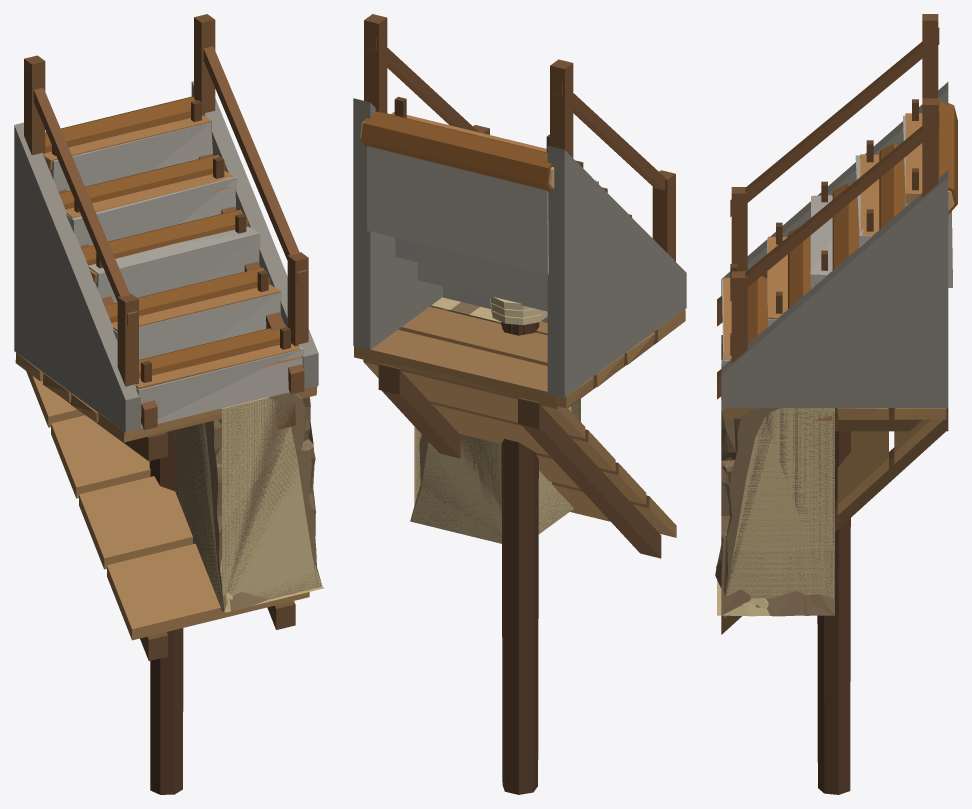
File: tileset.glb
3 renders of one model, left to right at view 1: azimuth 30°, elevation 25°; view 2: azimuth 150°, elevation 25°; view 3: azimuth 270°, elevation 25°, orthographic. The views are drawn at different scales.
Parts seen in each view (by area): view 1: stairs_stone_steps, stairs_stone_cheeks, dock_ramp_planks, stairs_wood_frame, tile_bank_edge_0, stairs_log_logs, tile_cliff_edge_0, stairs_wood_treads, tile_cliff_outer, dock_post_pile, dock_deck_planks, tile_bank_outer (+5 smaller); view 2: stairs_stone_cheeks, stairs_stone_steps, dock_post_pile, dock_deck_planks, dock_ramp_planks, stairs_wood_frame, dock_ramp_beams, tile_bank_edge_0, stairs_log_logs, tile_cliff_edge_0, dock_deck_beams, tile_bank_outer (+3 smaller); view 3: stairs_stone_cheeks, tile_bank_inner, stairs_wood_frame, tile_cliff_inner, dock_post_pile, stairs_log_logs, stairs_wood_treads, dock_ramp_planks, stairs_stone_steps, dock_ramp_beams, dock_deck_planks, stairs_log_stakes (+4 smaller).
Part boxes in pixels (bbox=[...]): stairs_stone_steps: bbox=[49, 122, 303, 427]; stairs_stone_cheeks: bbox=[14, 81, 318, 432]; dock_ramp_planks: bbox=[26, 371, 309, 640]; stairs_wood_frame: bbox=[24, 14, 308, 429]; tile_bank_edge_0: bbox=[221, 397, 322, 595]; stairs_log_logs: bbox=[45, 96, 286, 377]; tile_cliff_edge_0: bbox=[222, 392, 322, 595]; stairs_wood_treads: bbox=[43, 115, 302, 389]; tile_cliff_outer: bbox=[175, 418, 268, 612]; dock_post_pile: bbox=[149, 430, 183, 794]; dock_deck_planks: bbox=[15, 352, 317, 442]; tile_bank_outer: bbox=[175, 423, 324, 612]; stairs_stone_cheeks: bbox=[353, 98, 686, 397]; stairs_stone_steps: bbox=[367, 146, 598, 322]; dock_post_pile: bbox=[501, 322, 539, 794]; dock_deck_planks: bbox=[354, 305, 685, 408]; dock_ramp_planks: bbox=[363, 359, 676, 537]; stairs_wood_frame: bbox=[364, 14, 675, 261]; dock_ramp_beams: bbox=[378, 364, 661, 558]; tile_bank_edge_0: bbox=[410, 306, 580, 543]; stairs_log_logs: bbox=[361, 111, 551, 192]; tile_cliff_edge_0: bbox=[410, 302, 580, 542]; dock_deck_beams: bbox=[378, 340, 660, 428]; tile_bank_outer: bbox=[473, 314, 573, 533]; stairs_stone_cheeks: bbox=[721, 82, 948, 407]; tile_bank_inner: bbox=[721, 360, 834, 598]; stairs_wood_frame: bbox=[717, 14, 939, 399]; tile_cliff_inner: bbox=[721, 408, 834, 598]; dock_post_pile: bbox=[817, 431, 850, 794]; stairs_log_logs: bbox=[747, 101, 957, 343]; stairs_wood_treads: bbox=[722, 113, 922, 365]; dock_ramp_planks: bbox=[724, 419, 943, 618]; stairs_stone_steps: bbox=[721, 115, 952, 398]; dock_ramp_beams: bbox=[721, 409, 948, 634]; dock_deck_planks: bbox=[724, 408, 946, 420]; stairs_log_stakes: bbox=[730, 99, 918, 355].
Size of the model in its own units: 1.03 by 3.54 by 1.07.
